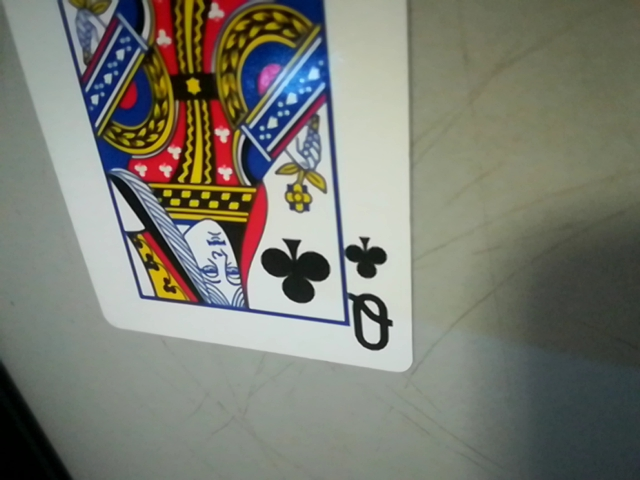mh q: (335, 229, 407, 363)
